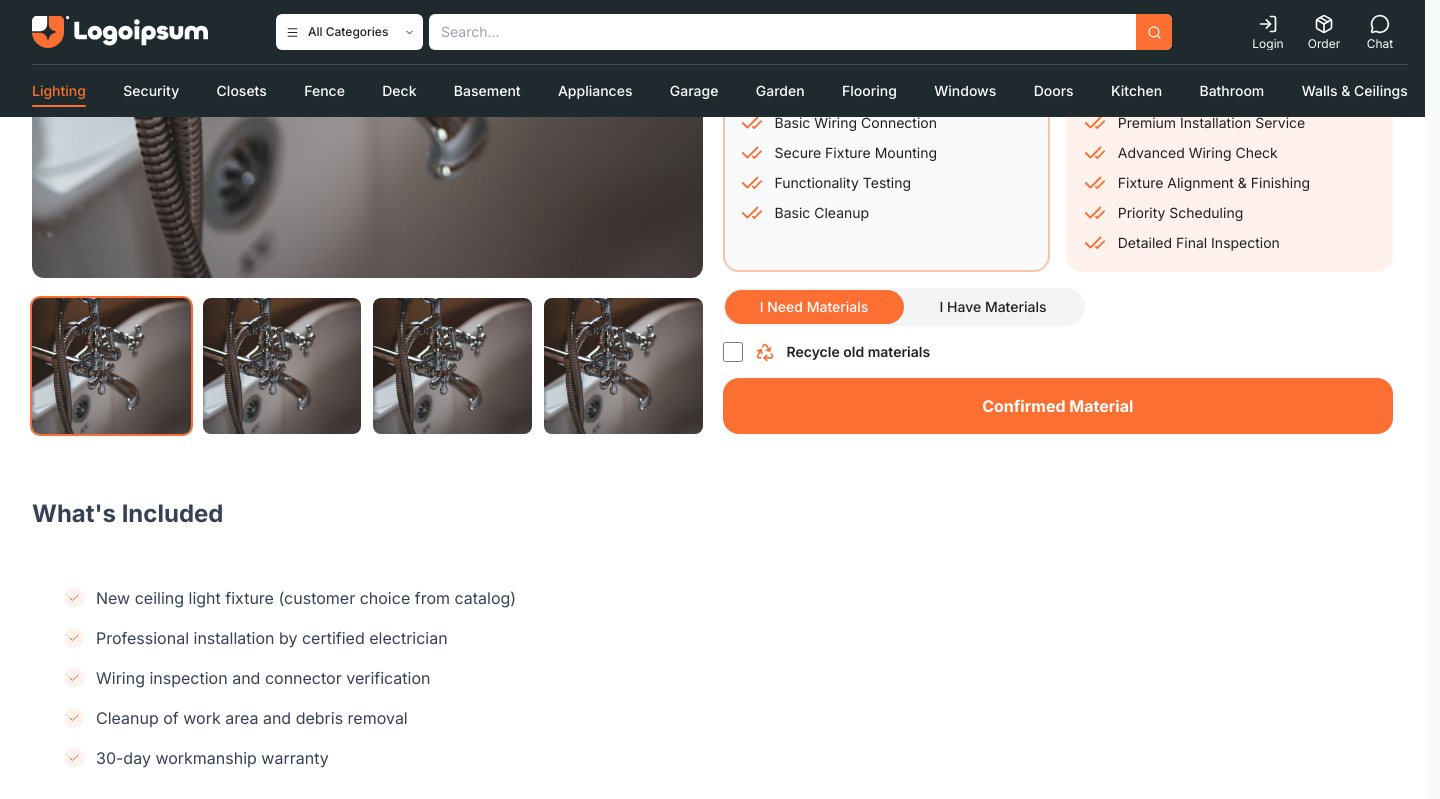
Test case: Service details chat › appends a sent message when the user types and sends from the composer
(page scrolled)
Click the button "Confirmed Material".
click(1058, 406)  # box [722,378,1393,434]
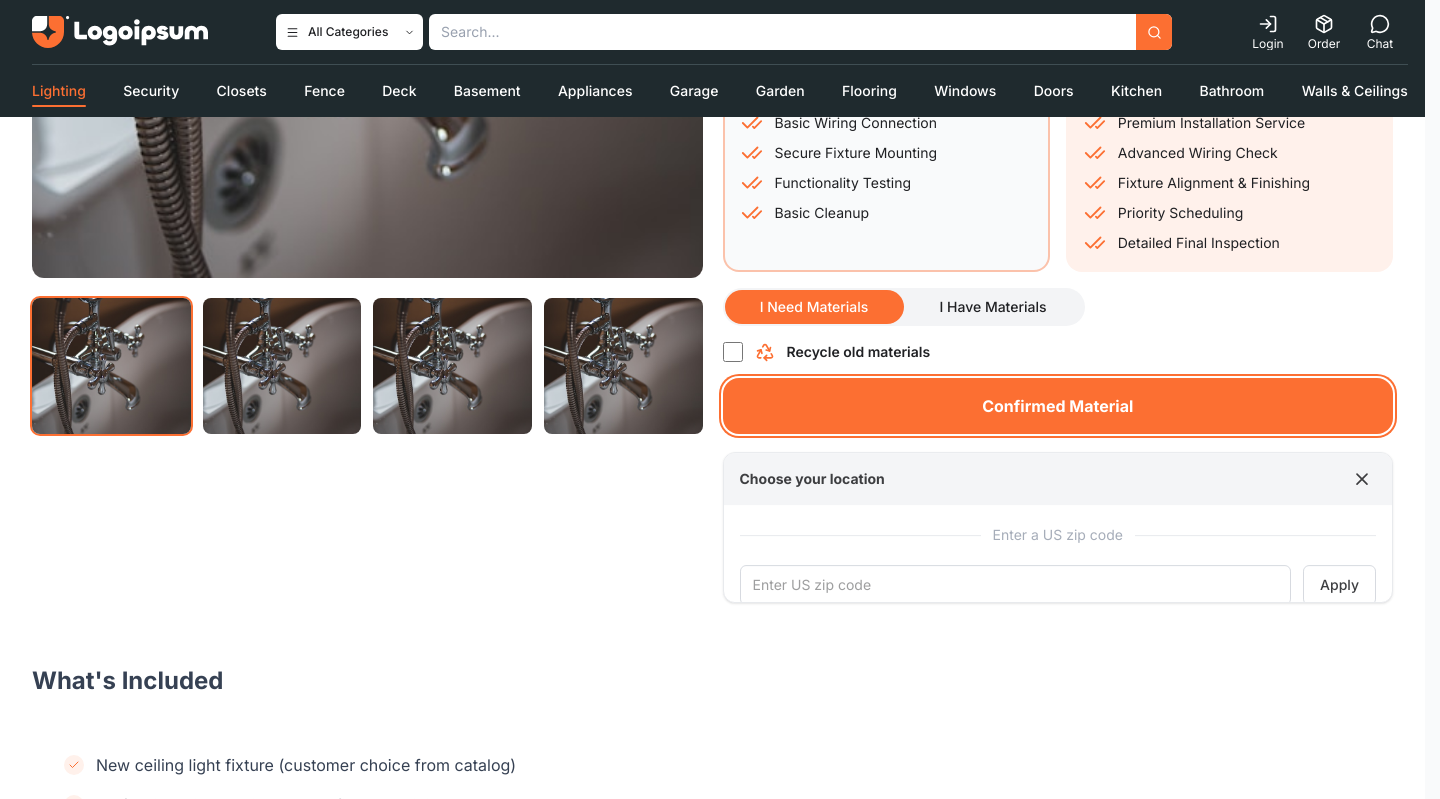
Result: the button "Apply" is shown
Click the button "Apply".
click(1340, 585)  # box [1303,565,1376,605]
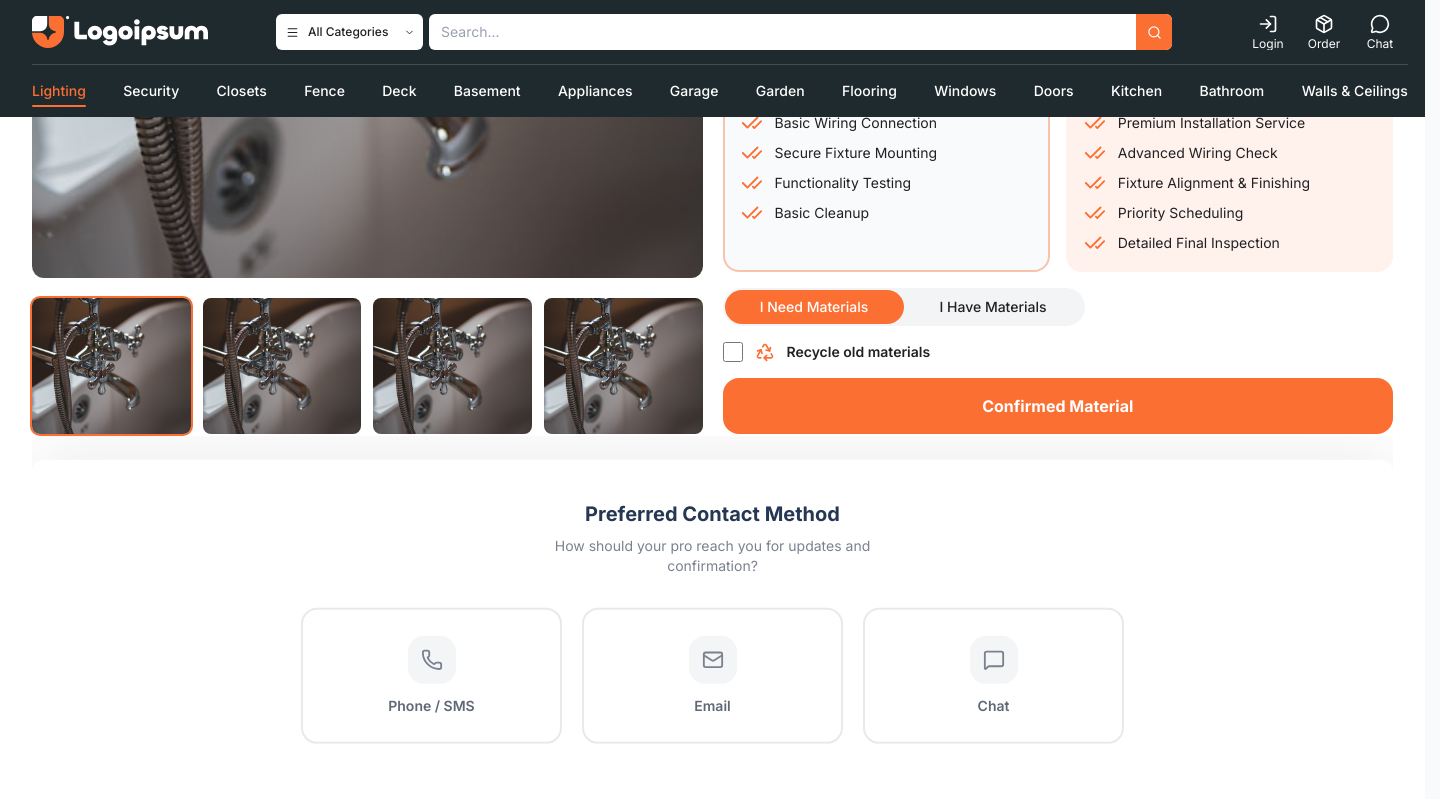
Result: the element "Preferred Contact Method" is shown at [32,459,1393,744]
Click the radio button labelled "Chat".
click(994, 675)  # box [863,607,1124,743]
(page scrolled)
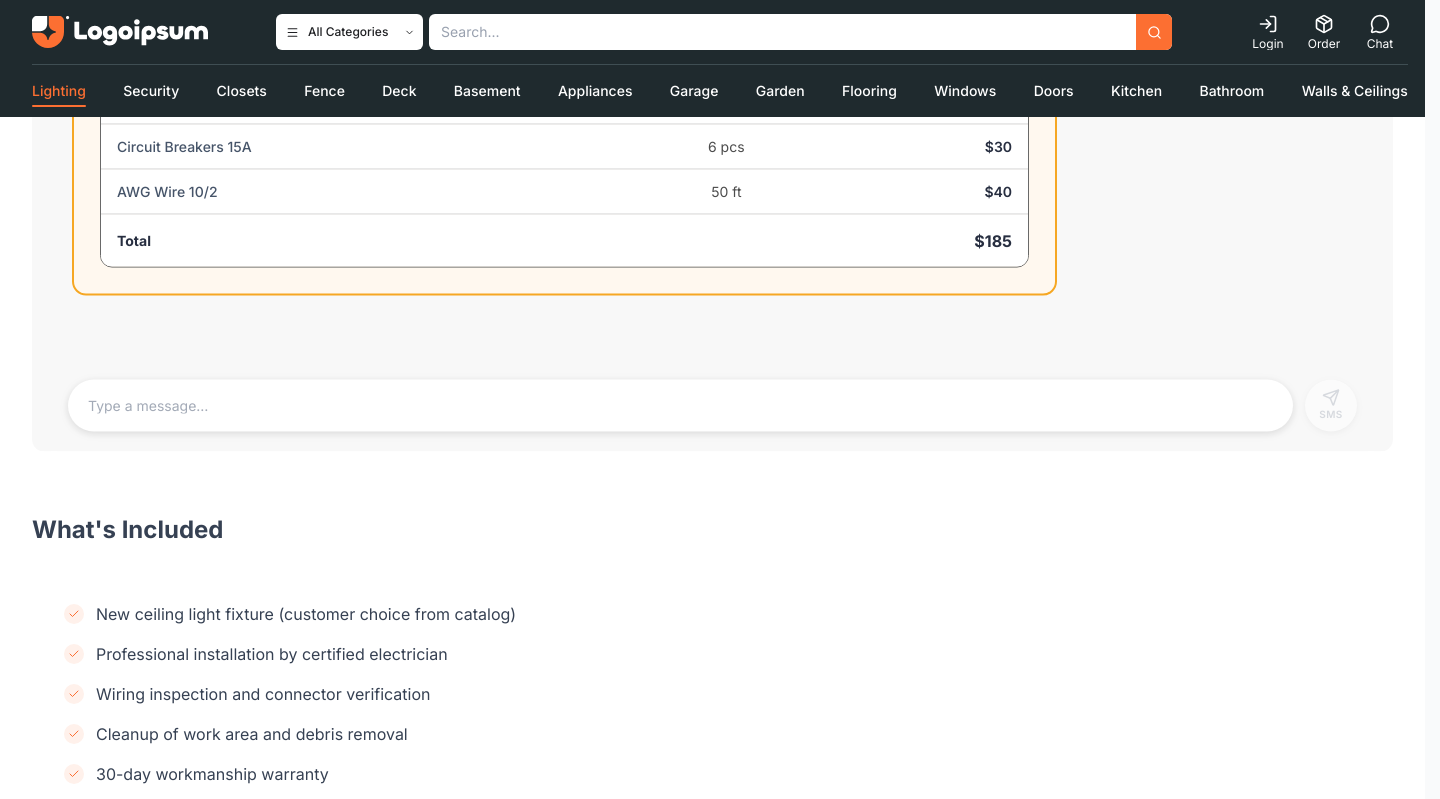
Result: the button with aria-label "Send message" is disabled at [1305,379,1357,431]
Type "Ready when you are" into the field labelled "Type a message".
click(680, 405); type("Ready when you are")  # box [68,379,1293,431]
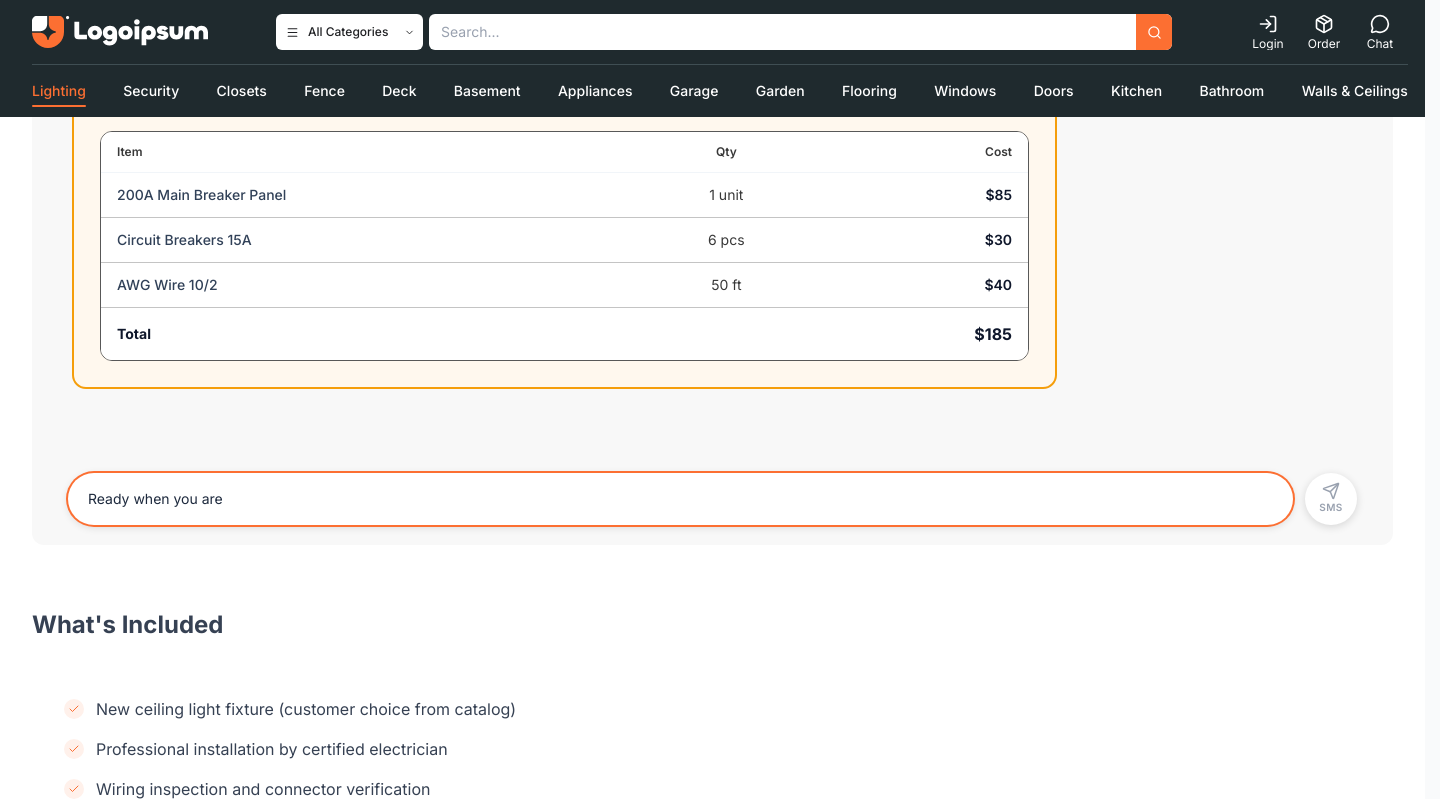
Result: the button with aria-label "Send message" is enabled
Click the button with aria-label "Send message".
click(1331, 498)  # box [1305,472,1357,524]
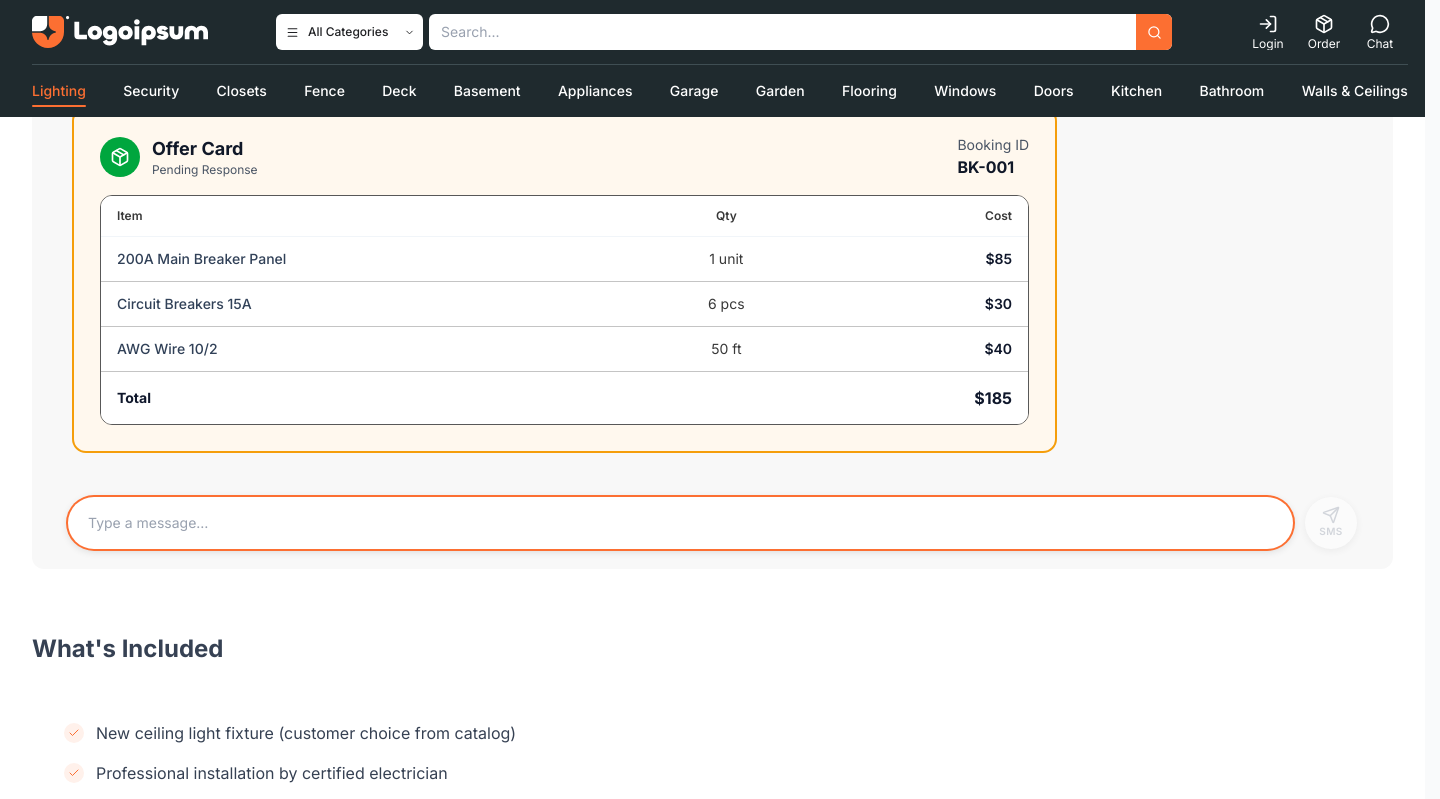
Expected: the text "Ready when you are" is shown, [1121,30,1353,90]
Result: the field labelled "Type a message" is empty at [68,496,1293,548]
Result: the button with aria-label "Send message" is disabled at [1305,496,1357,548]
